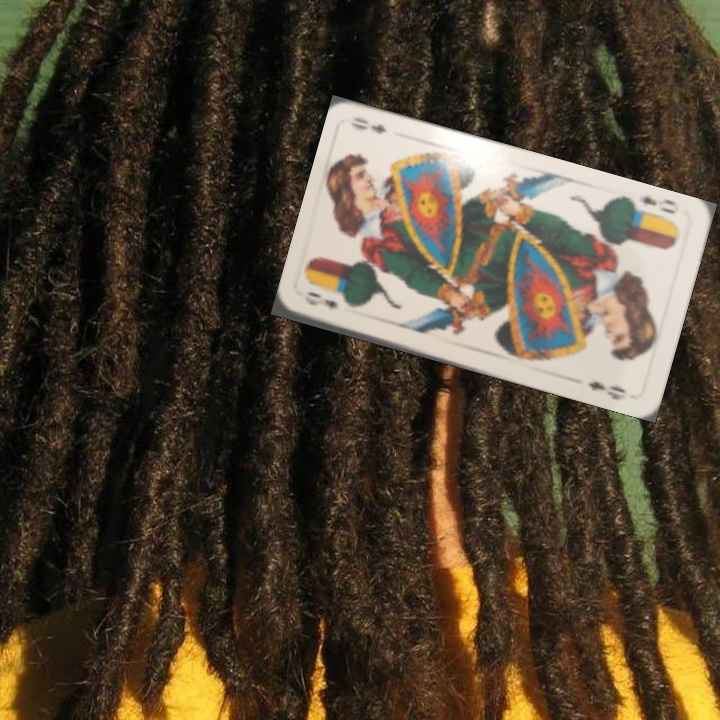EO: (628, 192, 678, 223), (300, 288, 341, 311)
